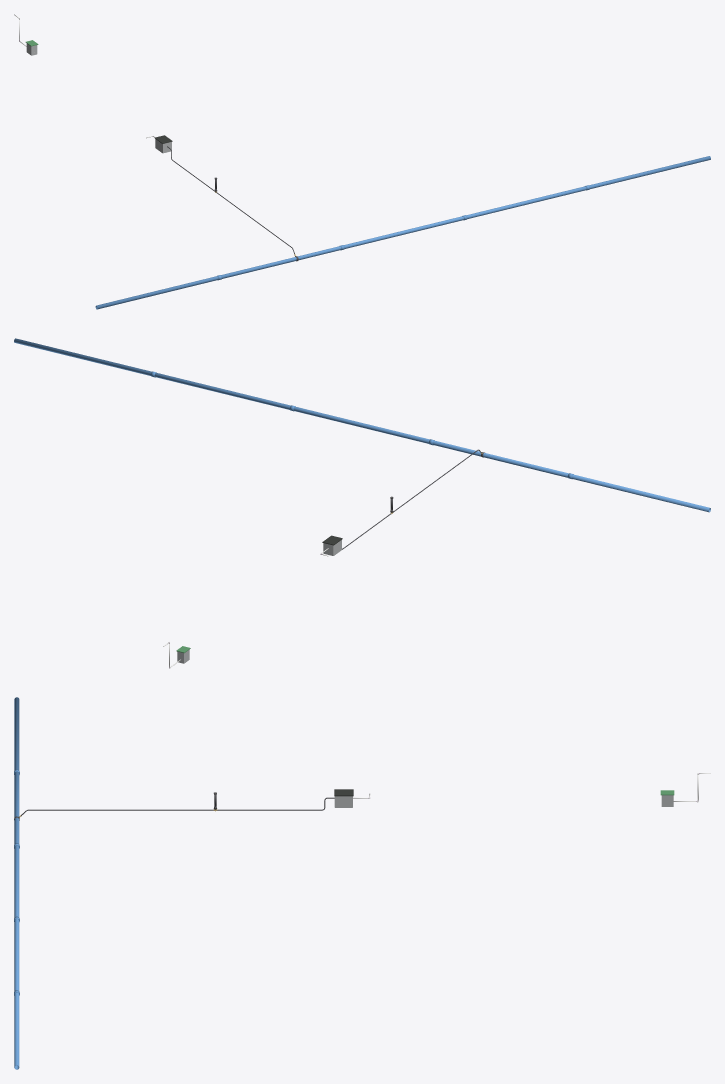
Rendered from pipes_supply__water-city_filter.glb.
3 views of the same model, one above another, from view 1: azimuth 30°, elevation 25°; view 2: azimuth 150°, elevation 25°; view 3: azimuth 270°, elevation 25° (orthographic). The views are drawn at different scales.
Visible parts, largest first — view 1: city_water_main; view 2: city_water_main; view 3: city_water_main.
Part boxes in pixels (x1,y1,x2,y2): city_water_main: (95,156,710,309); city_water_main: (14,338,710,512); city_water_main: (14,697,19,1069).
Bounding box in the file's own units: 30.48 × 1.89 × 24.4.
